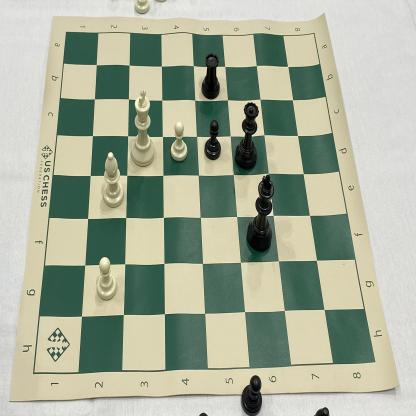black-king: (243, 174, 274, 254)
black-pawn: (203, 118, 223, 162)
black-queen: (234, 102, 260, 172)
black-rook: (199, 50, 222, 101)
white-bishop: (100, 150, 127, 209)
white-king: (128, 87, 156, 169)
white-pawn: (93, 252, 118, 303), (168, 119, 189, 161)
